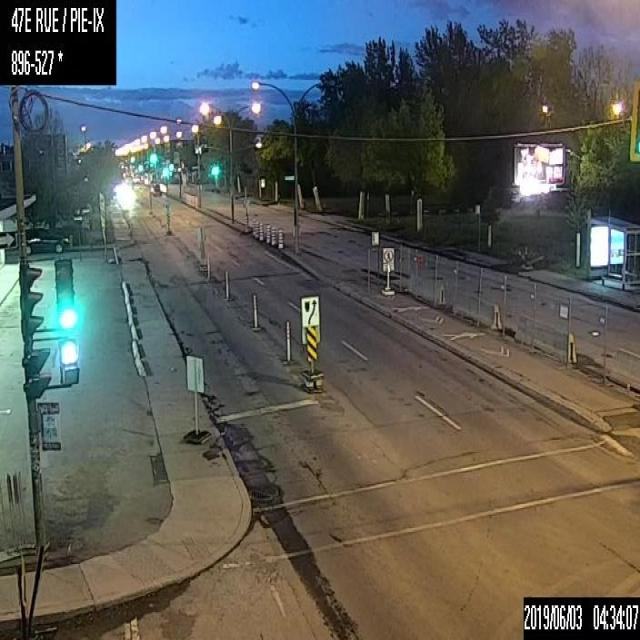construction: (182, 352, 212, 444), (380, 246, 394, 298), (284, 318, 290, 363), (252, 293, 256, 329), (278, 228, 284, 251), (266, 223, 272, 244), (258, 220, 264, 241), (270, 226, 276, 247), (252, 218, 258, 238), (224, 270, 228, 298)
vehicle: (25, 227, 68, 255)
